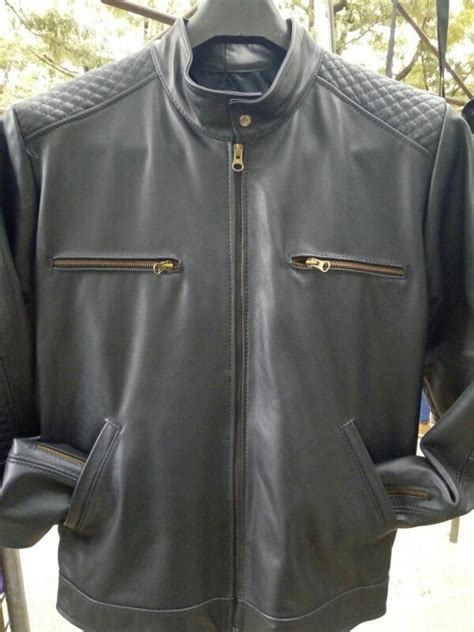cuero: (1, 20, 474, 632)
